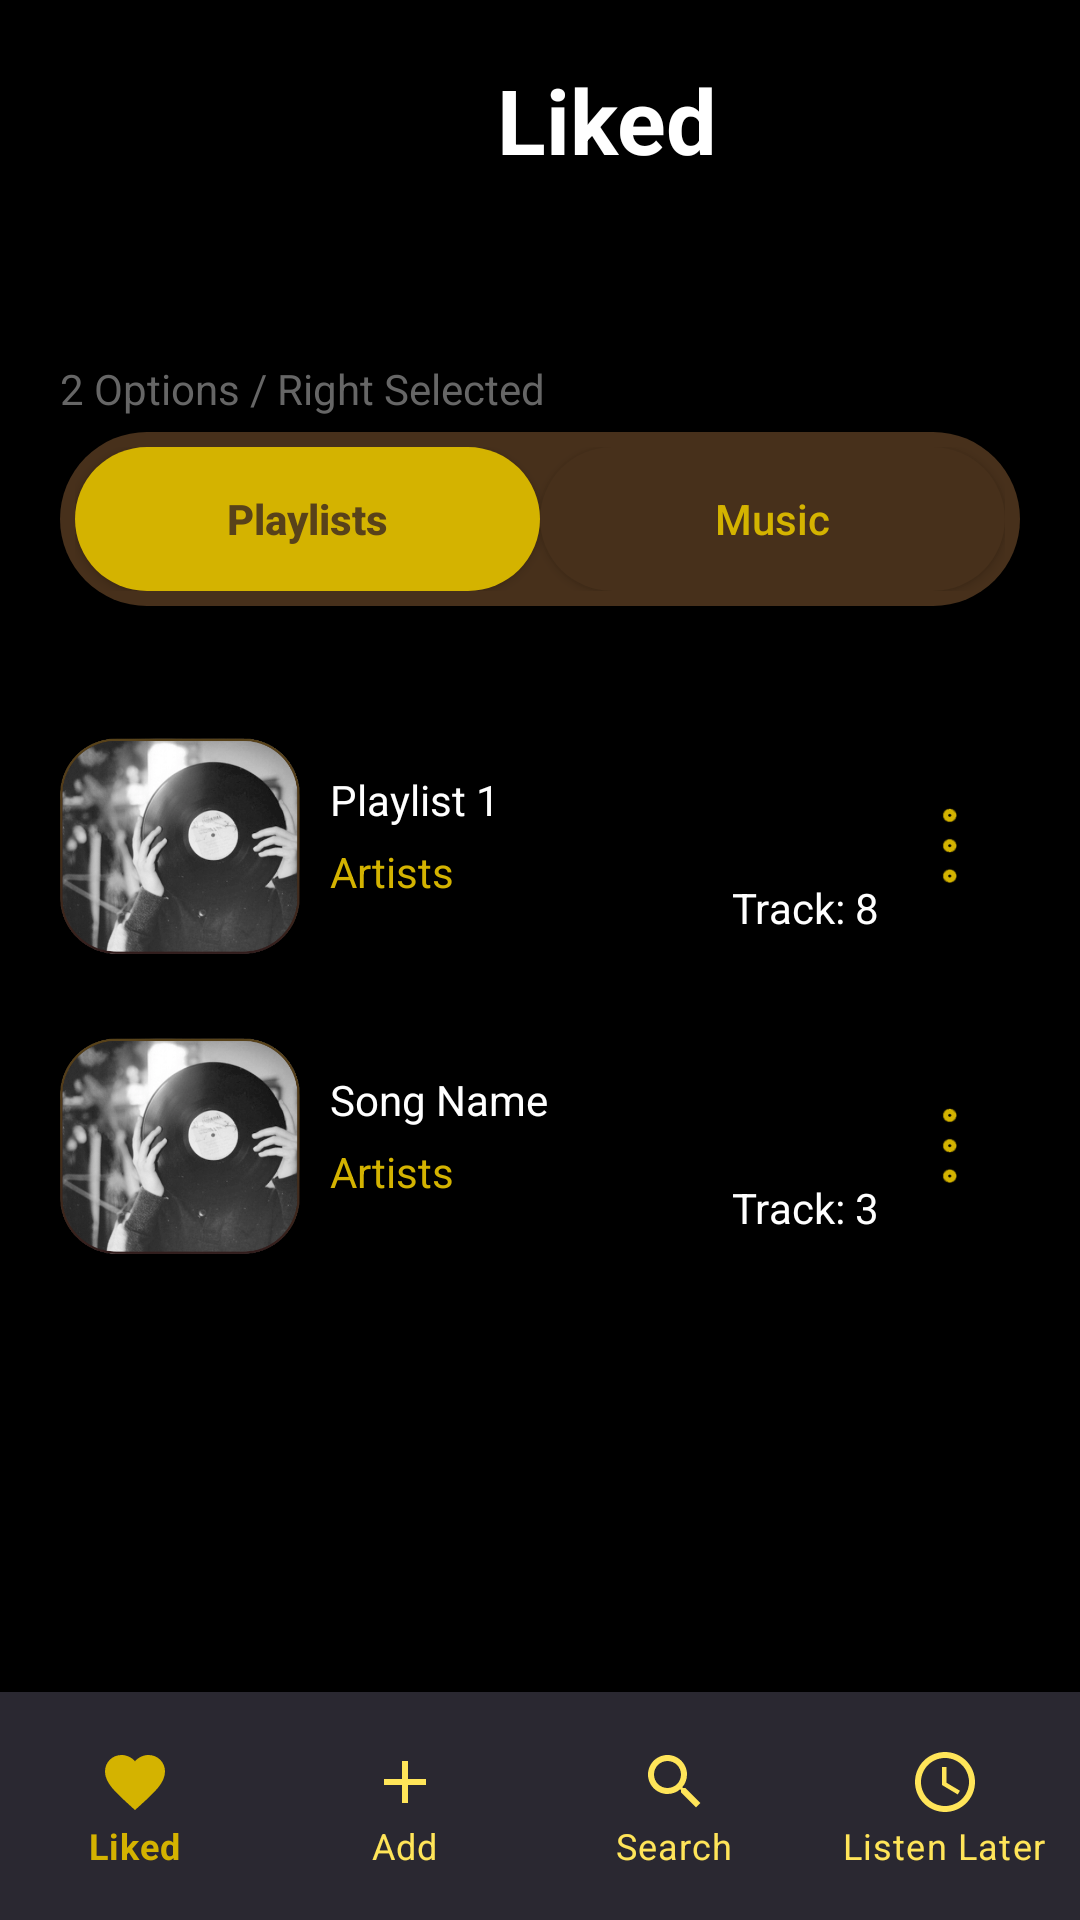

Where to tap for icons on this 1080px x 1920px app screen, as [x,y]:
menu: [950,845], [950,1145]
